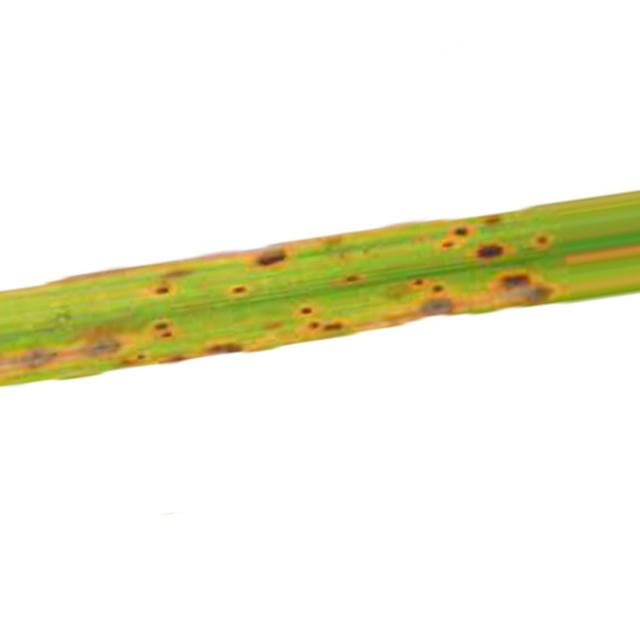Brown_Spot: (94, 325, 136, 368), (15, 345, 59, 376), (158, 351, 204, 364), (421, 298, 451, 315), (206, 342, 244, 355), (151, 319, 175, 339), (258, 249, 285, 266), (339, 272, 368, 286), (501, 274, 529, 288), (132, 352, 158, 365), (151, 280, 172, 295), (478, 245, 502, 258), (294, 304, 318, 316), (229, 284, 249, 296), (409, 279, 428, 291), (322, 322, 344, 331), (482, 215, 500, 224), (454, 226, 468, 236), (442, 240, 454, 250), (308, 321, 321, 330), (536, 236, 548, 244), (432, 285, 444, 292)
